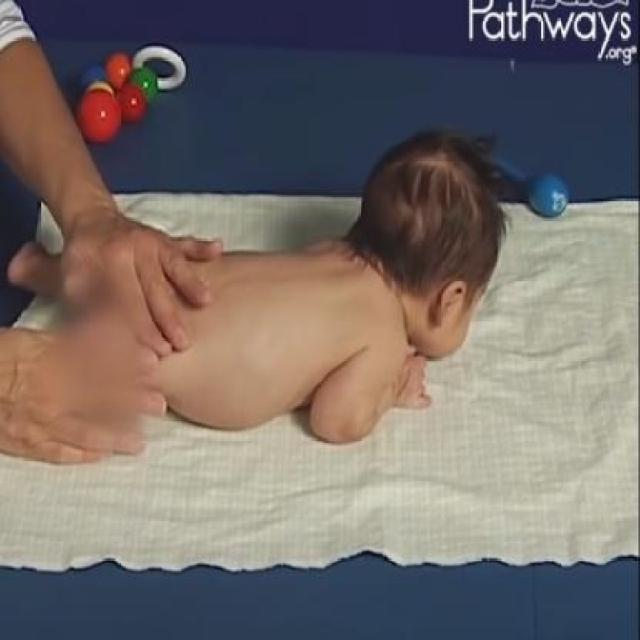baby: (8, 126, 510, 446)
